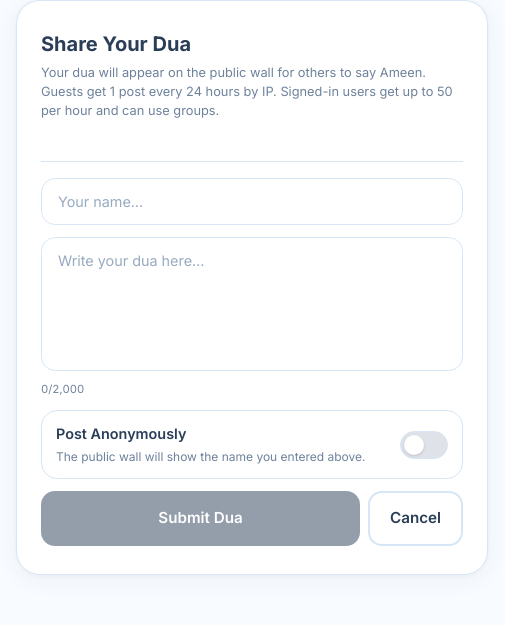
it: SubmitDuaCard › shows the published success message after a clean guest submission
In the field labelled "Your name…": (252, 201) [41,178,463,225], type "Fatima"
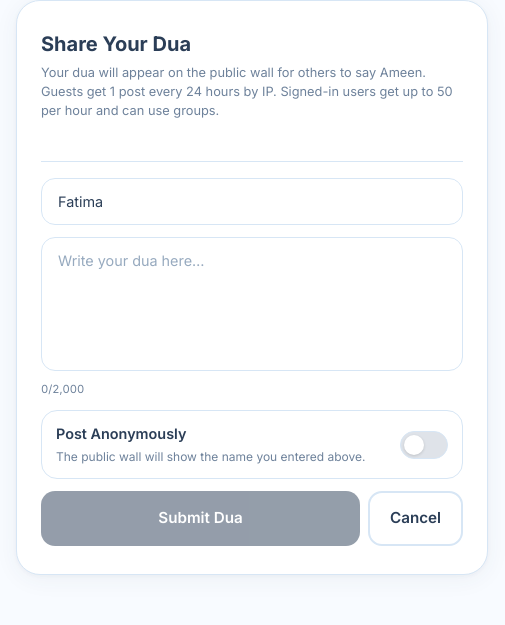
In the text box labelled "Write your dua here…": (252, 304) [41,237,463,371], type "Please make things easy for my family."
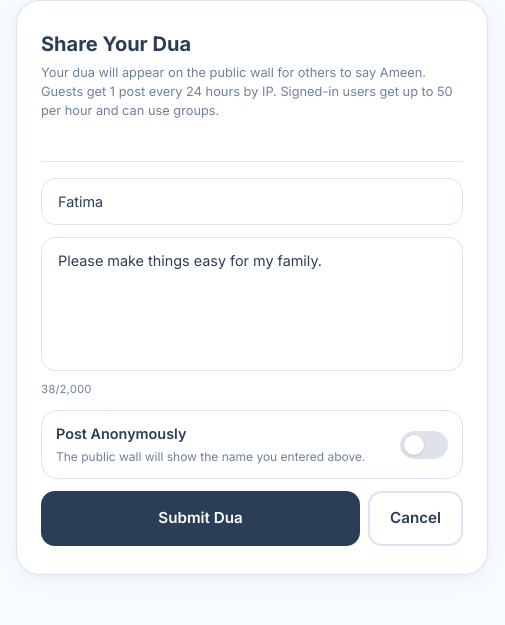
Click the button "Submit Dua": (200, 519) [41,491,360,546]
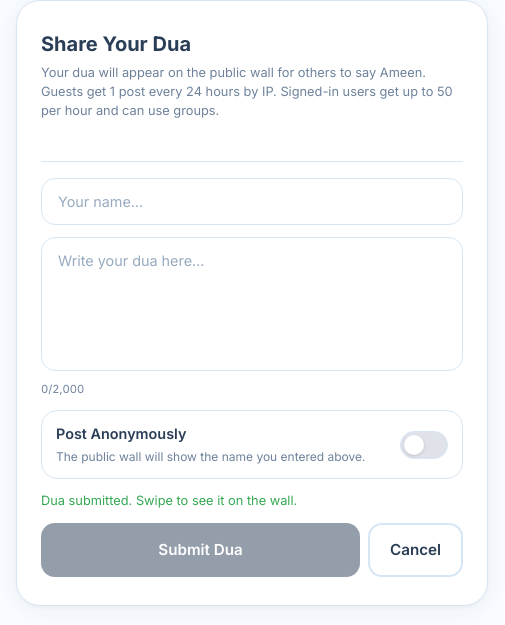
Result: the text "Dua submitted. Swipe to see it on the wall." is shown at [41,493,297,508]
